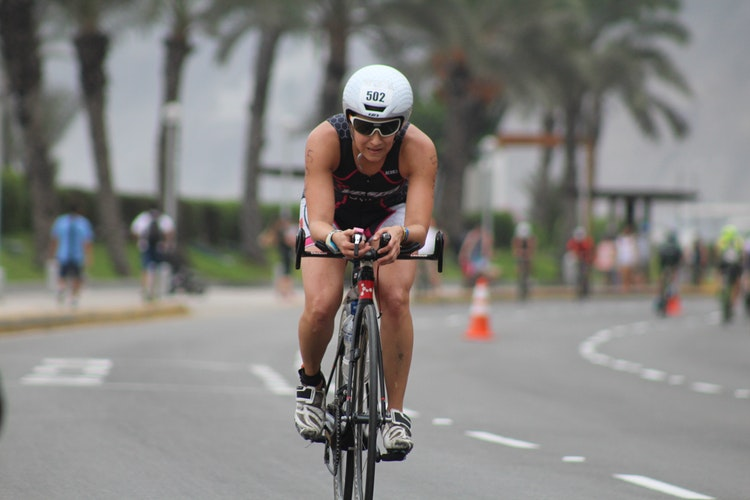helmet: (337, 55, 429, 123)
